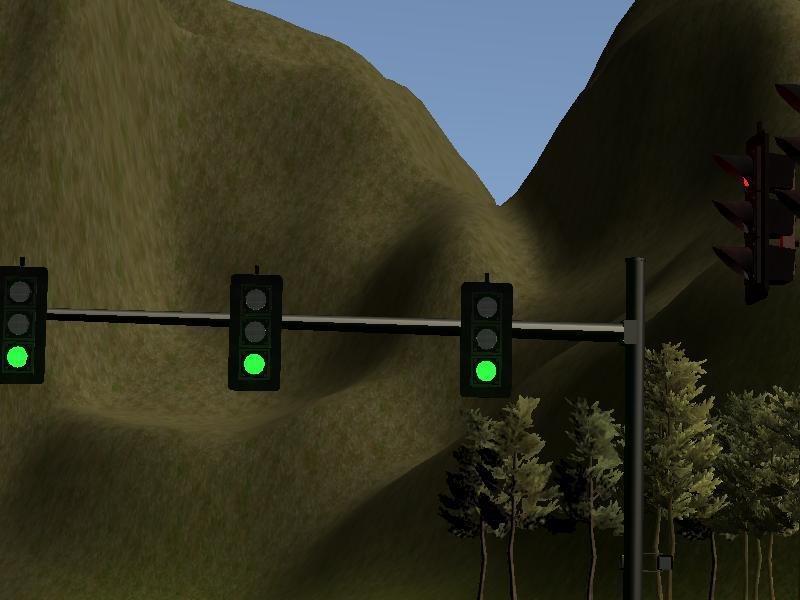Green: (229, 275, 279, 390), (461, 281, 511, 396), (1, 267, 46, 385)
